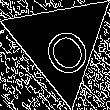O_NW: (29, 10, 92, 77)
